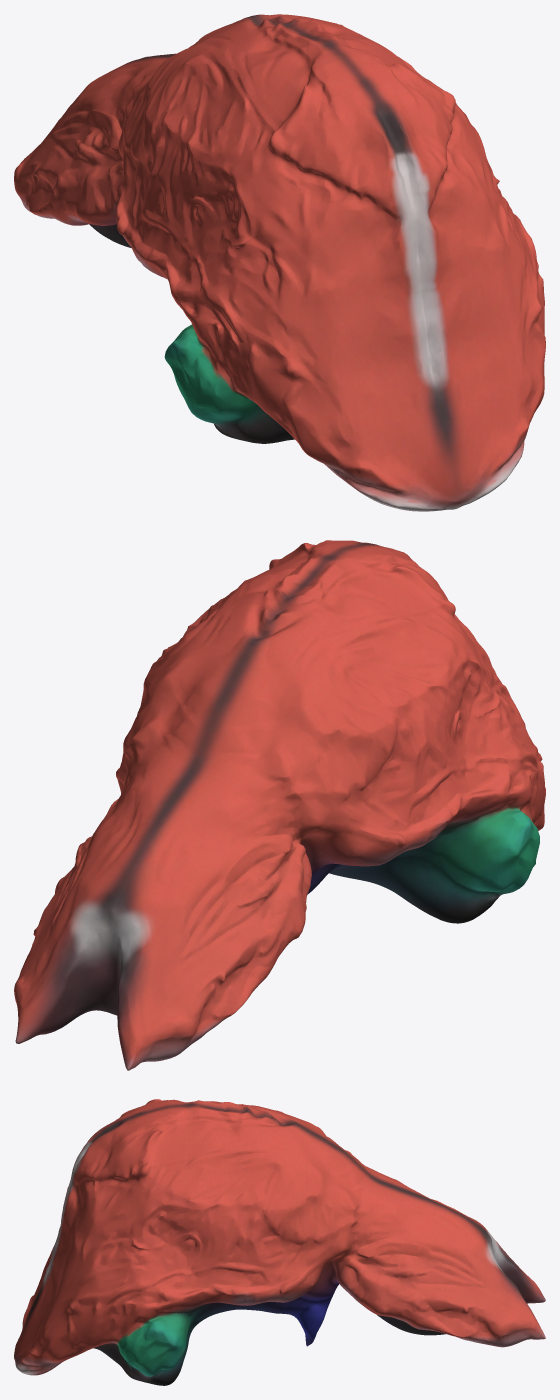
Rendered from liver.glb.
The picture shows the model from 3 angles, top to bottom: view 1: azimuth 30°, elevation 25°; view 2: azimuth 150°, elevation 25°; view 3: azimuth 270°, elevation 25°; orthographic projection. The views are drawn at different scales.
Visible parts, largest first — view 1: tripo_node_491df57f-cb3a-438e-a4ca-3d62afaa42a3; view 2: tripo_node_491df57f-cb3a-438e-a4ca-3d62afaa42a3; view 3: tripo_node_491df57f-cb3a-438e-a4ca-3d62afaa42a3.
Part boxes in pixels (x1=…): tripo_node_491df57f-cb3a-438e-a4ca-3d62afaa42a3: x1=14, y1=14, x2=545, y2=511; tripo_node_491df57f-cb3a-438e-a4ca-3d62afaa42a3: x1=14, y1=540, x2=545, y2=1070; tripo_node_491df57f-cb3a-438e-a4ca-3d62afaa42a3: x1=14, y1=1099, x2=545, y2=1385.
Bounding box in the file's own units: 0.5211 × 0.5283 × 0.9813.
1 material, 1 textured.
